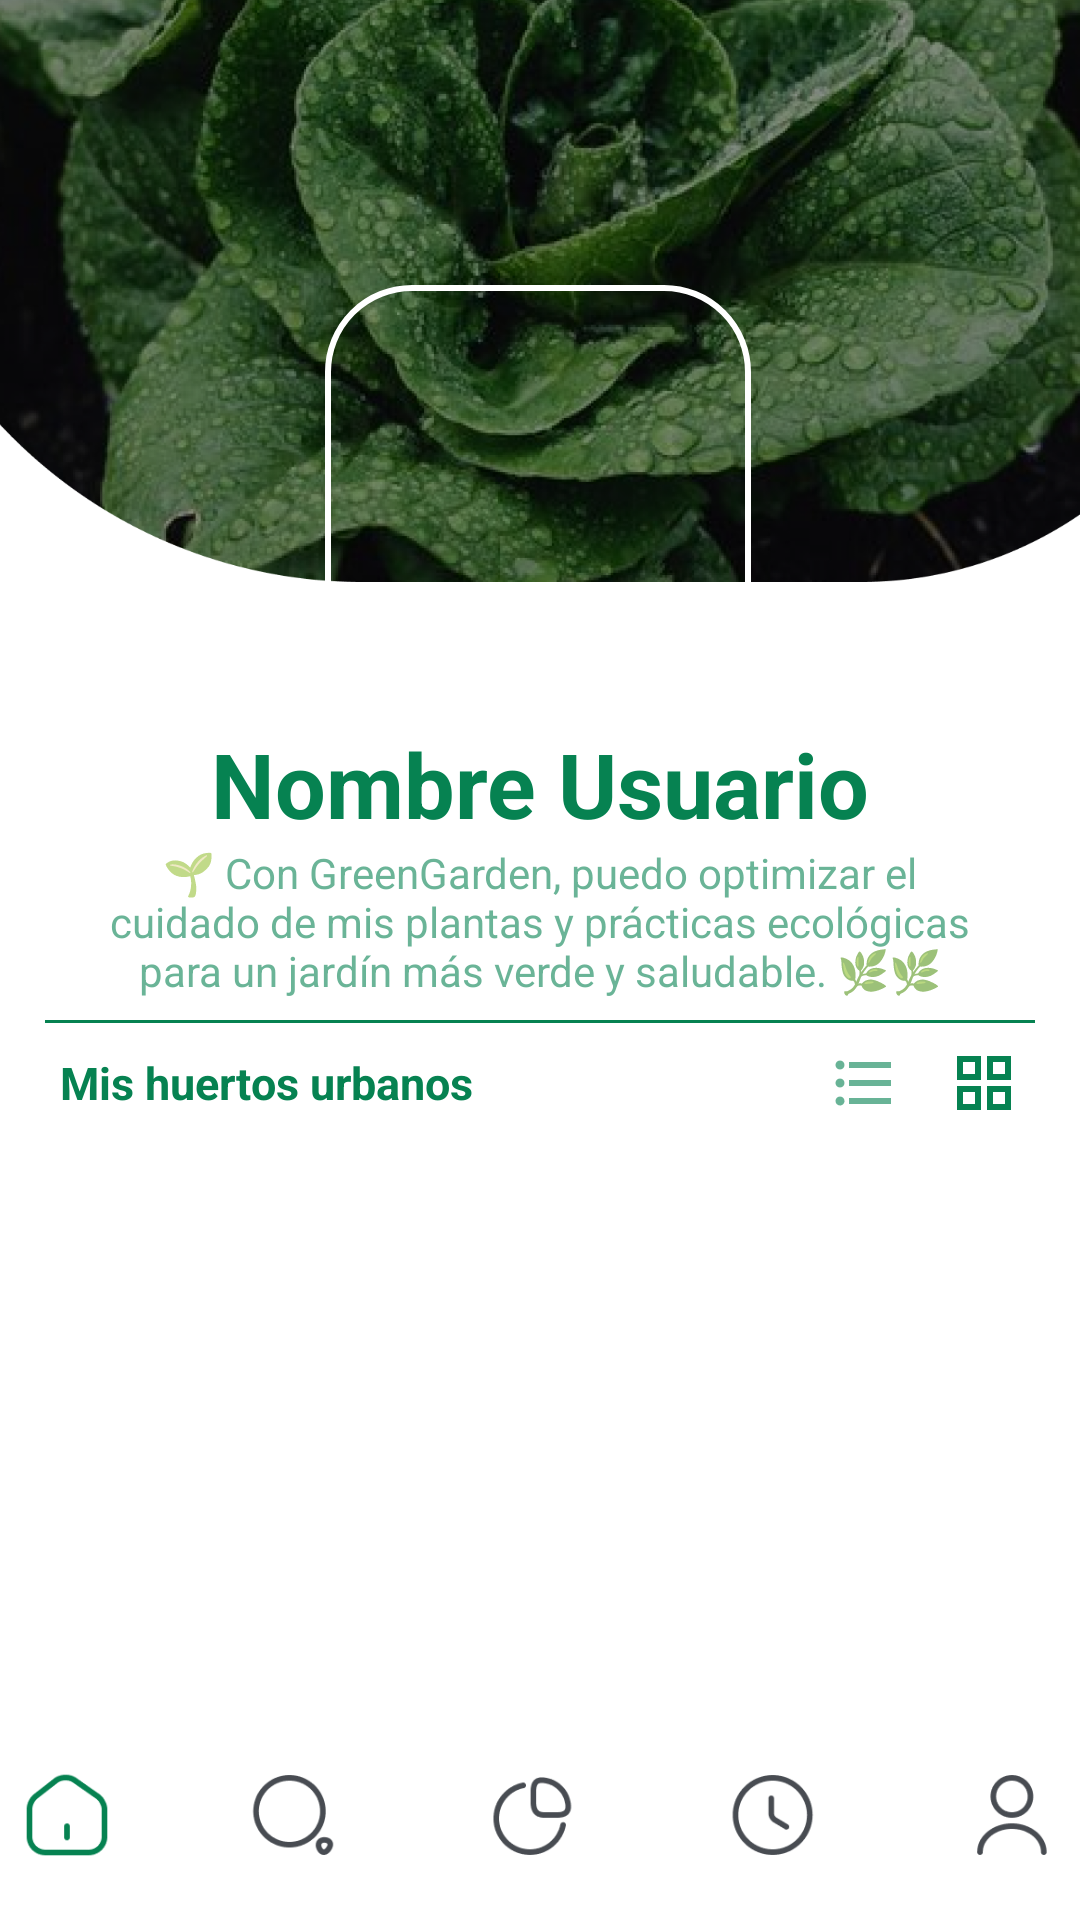

Where to tap for icons on this 1080*1920 app screen, as [x,y]:
clock: [772,1815]
graph: [532,1816]
home: [67,1815]
search: [293,1815]
user: [1012,1815]
